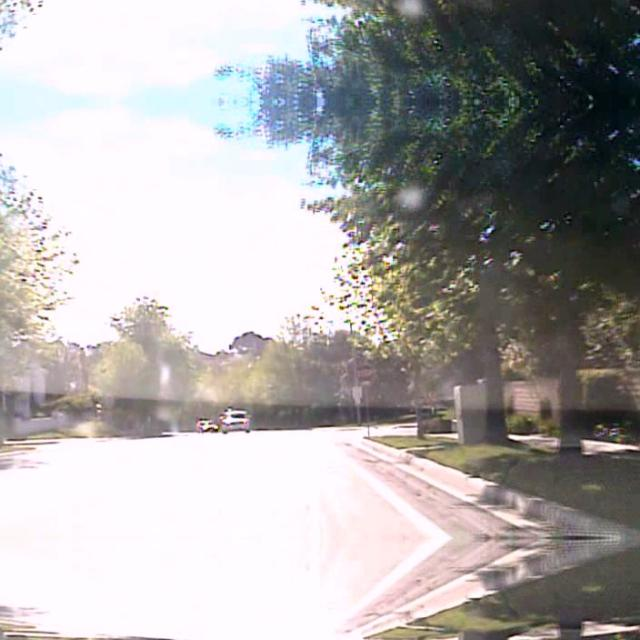stop: (354, 361, 374, 381)
